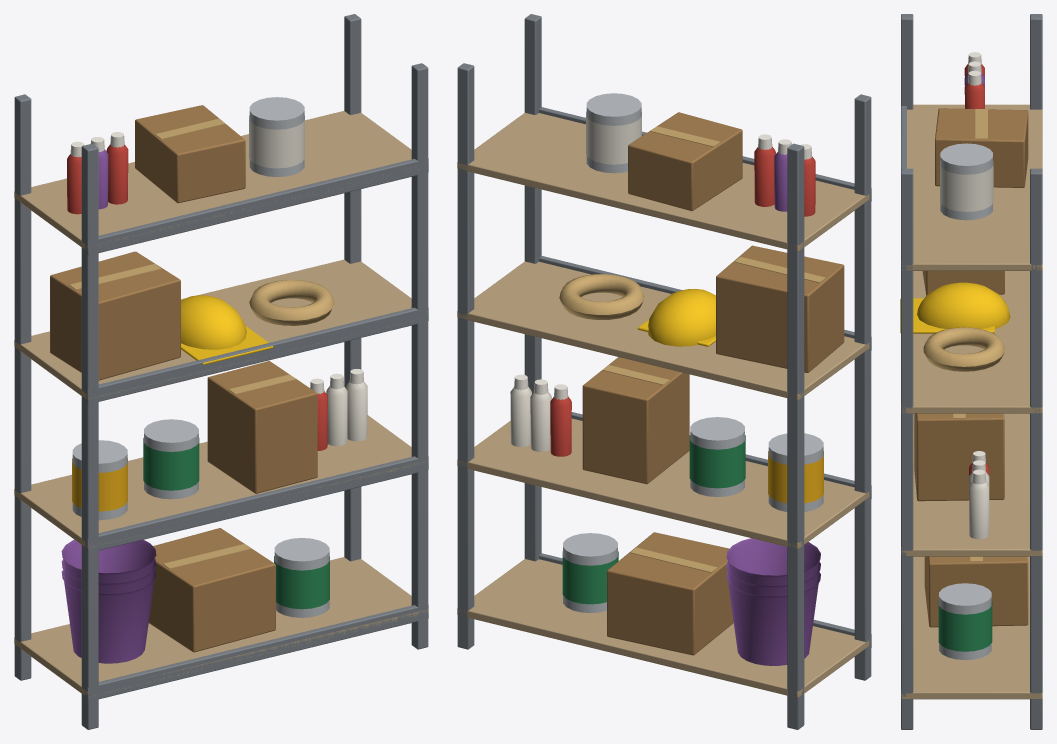
The model's file is shelf_unit.fbx.
3 views of the same model, side by side, from view 1: azimuth 30°, elevation 25°; view 2: azimuth 150°, elevation 25°; view 3: azimuth 270°, elevation 25° (orthographic). The views are drawn at different scales.
Visible parts, largest first — view 1: shelf_unit; view 2: shelf_unit; view 3: shelf_unit.
Part boxes in pixels (x1,y1,x2,y2): shelf_unit: (14,14,428,729); shelf_unit: (457,14,871,729); shelf_unit: (900,14,1042,729).
Bounding box in the file's own units: 1.2 × 1.95 × 0.4517.
